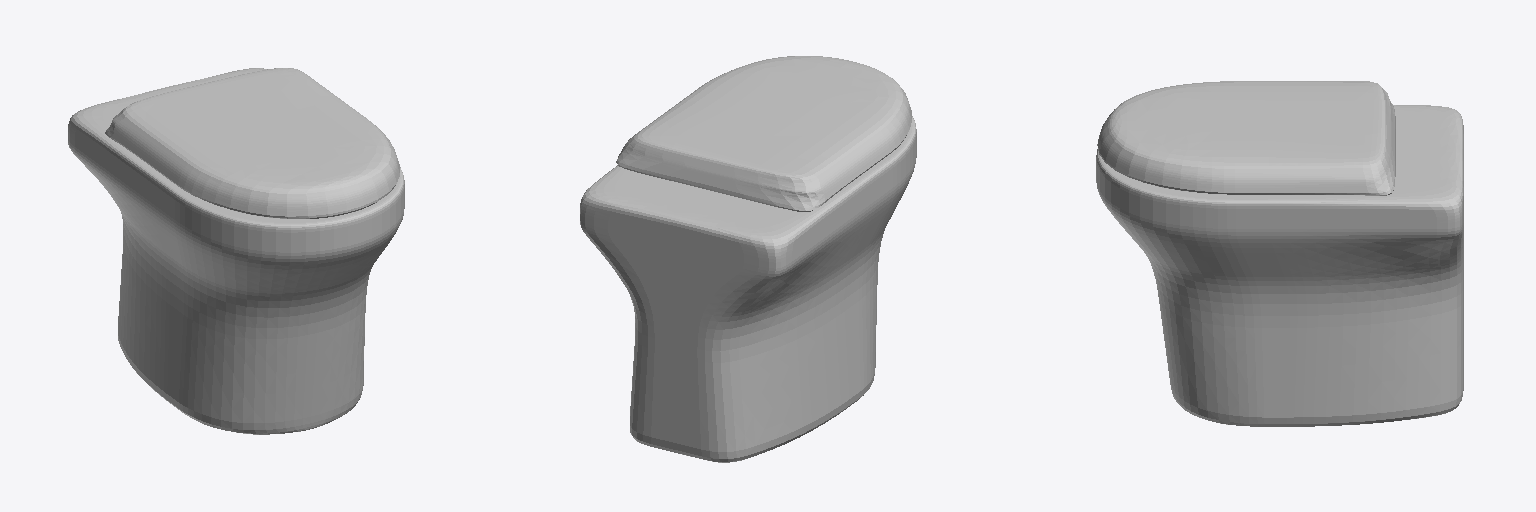
File: bathroom_toilet.obj
3 renders of one model, left to right at view 1: azimuth 30°, elevation 25°; view 2: azimuth 150°, elevation 25°; view 3: azimuth 270°, elevation 25°, orthographic.
Visible parts, largest first — view 1: Rectangle03_2, Rectangle04_1; view 2: Rectangle03_2, Rectangle04_1; view 3: Rectangle03_2, Rectangle04_1.
Part boxes in pixels (x1,y1,x2,y2): Rectangle03_2: (68, 68, 404, 434); Rectangle04_1: (105, 68, 399, 218); Rectangle03_2: (580, 116, 916, 462); Rectangle04_1: (616, 56, 911, 211); Rectangle03_2: (1096, 105, 1463, 426); Rectangle04_1: (1097, 81, 1395, 195).
Size of the model in its own units: 36 by 45.25 by 55.73.